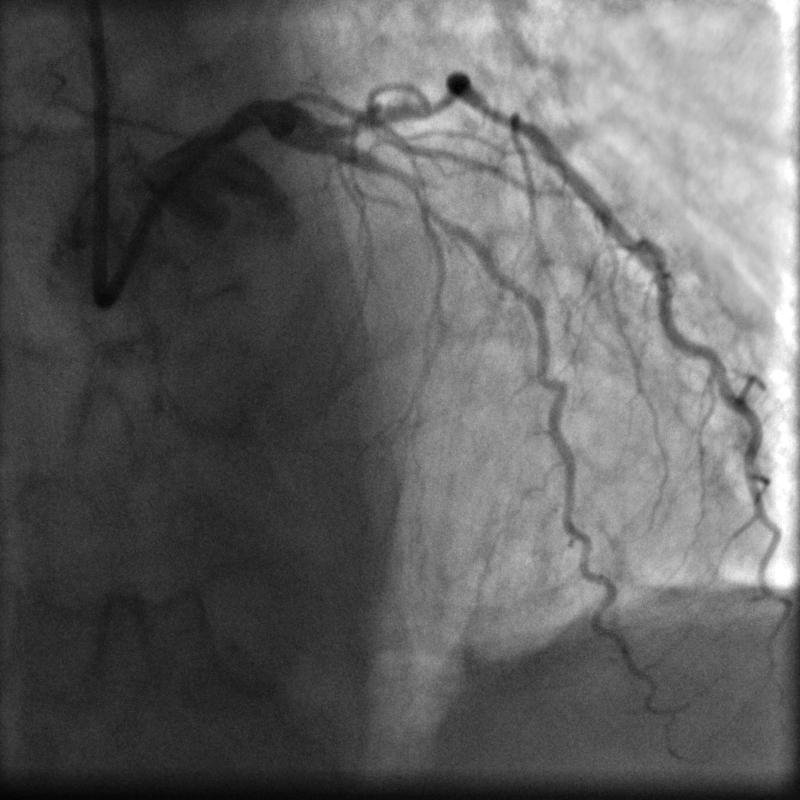Stenosis: (386, 158, 445, 223)
